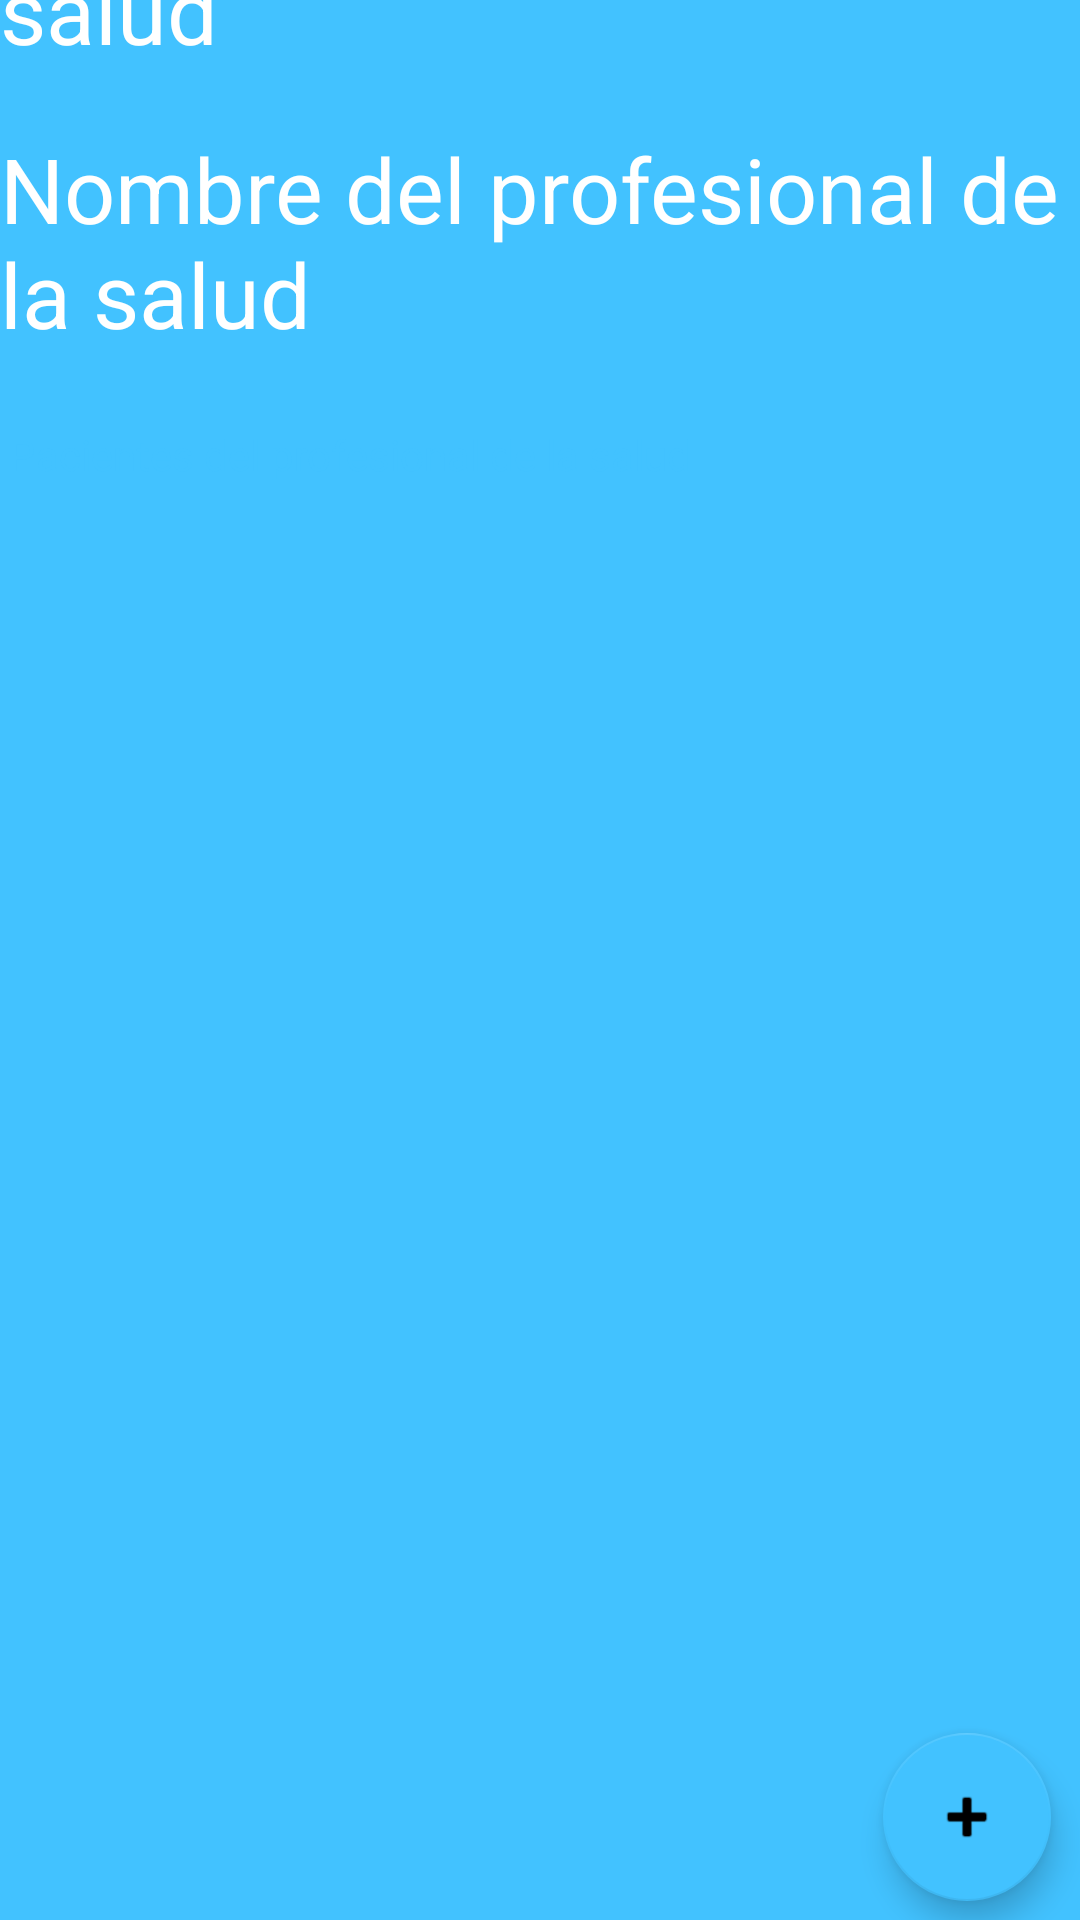

Icon click points for this 1080px×1920px phone screenshot, format (x=x, y=y):
add: (x=969, y=1817)
